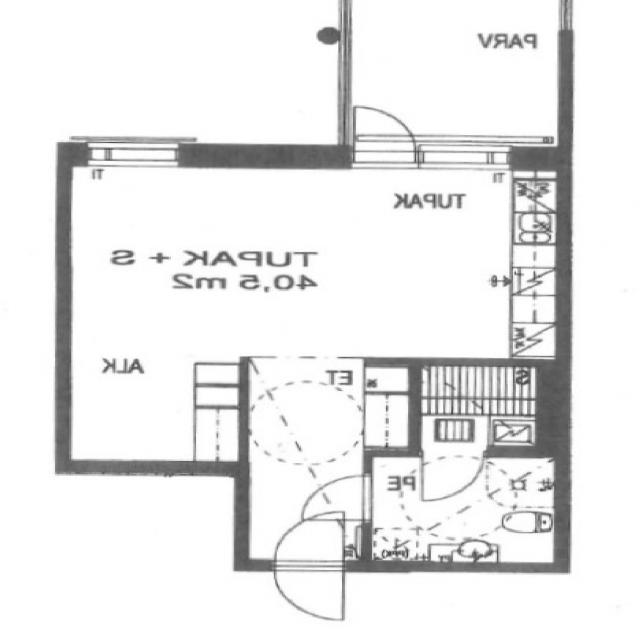door: (353, 103, 414, 171), (275, 562, 343, 622), (275, 514, 343, 574), (424, 447, 484, 502), (300, 476, 373, 521)
